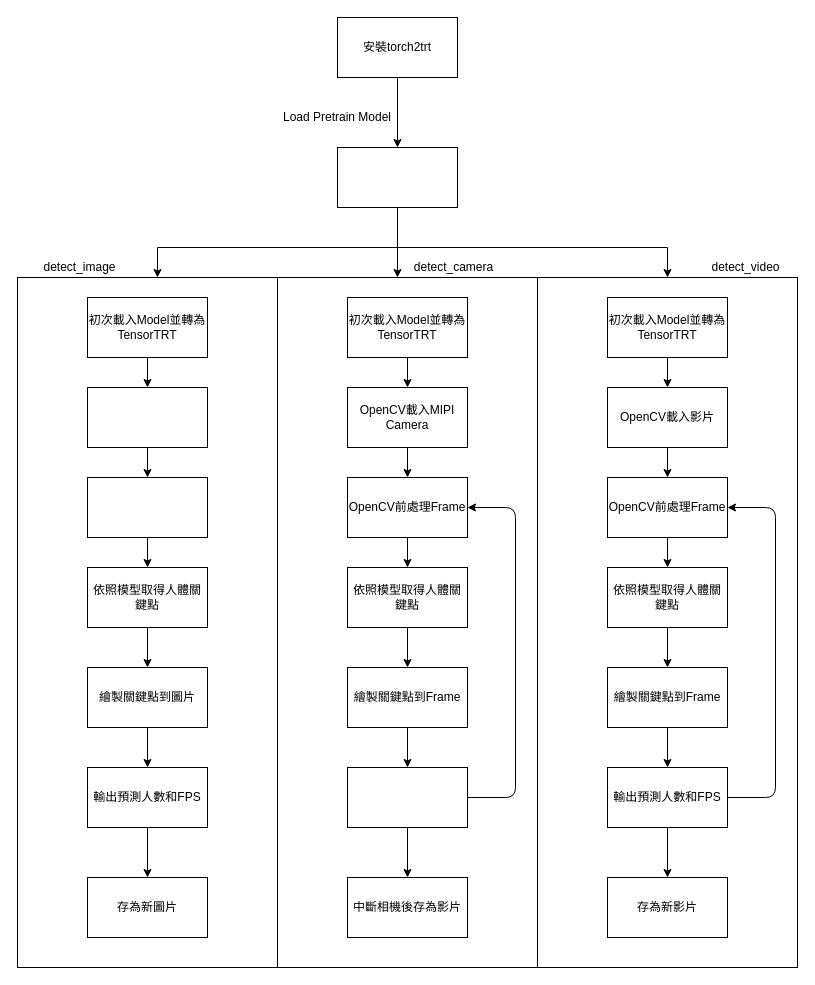
The diagram is 815 pixels wide and 985 high, and some of its shapes have lost their labels. Each missing label, with the box of its shape:
densenet121 resnet18: (336, 146, 458, 208)
OpenCV前處理圖片: (86, 476, 208, 538)
OpenCV載入圖片: (86, 386, 208, 448)
Real Time和輸出預測人數和FPS: (346, 766, 468, 828)
